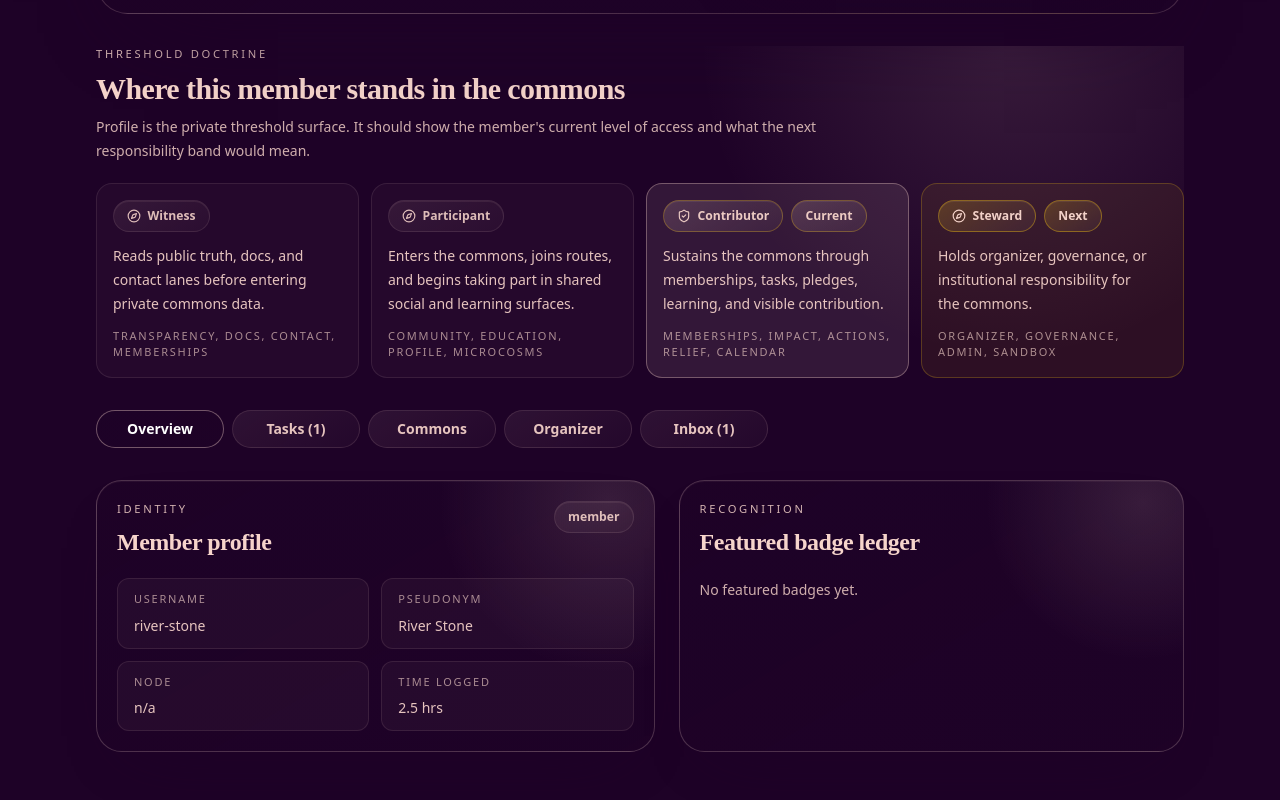
ProfilePage › renders the chambered cockpit and exposes task and organizer modules
(page scrolled)
Check: the heading "Where this member stands in the commons" is shown, box [96,72,625,105]
Click the button "Tasks (1)".
click(296, 429)  # box [232,410,360,448]
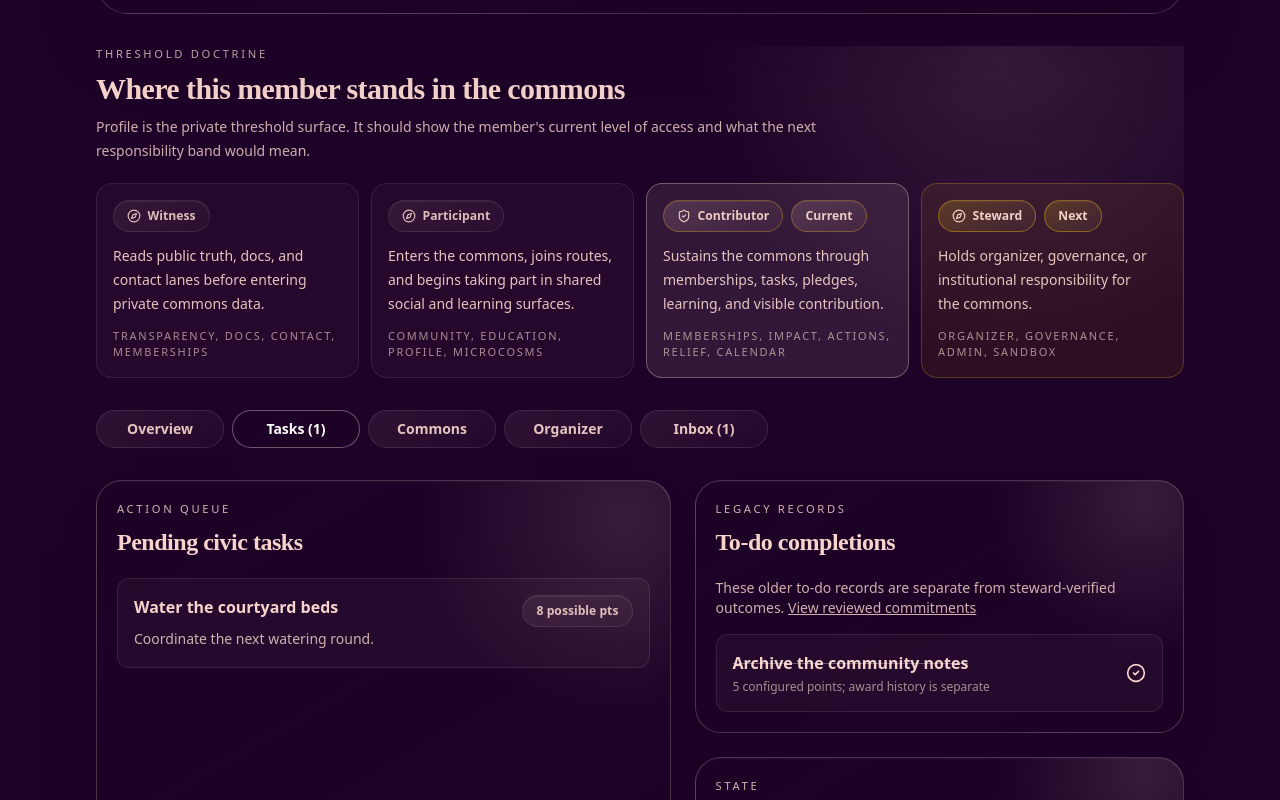
Check: the text "Water the courtyard beds" is shown, box [134,595,374,619]
Click the button "Organizer".
click(568, 429)  # box [504,410,632,448]
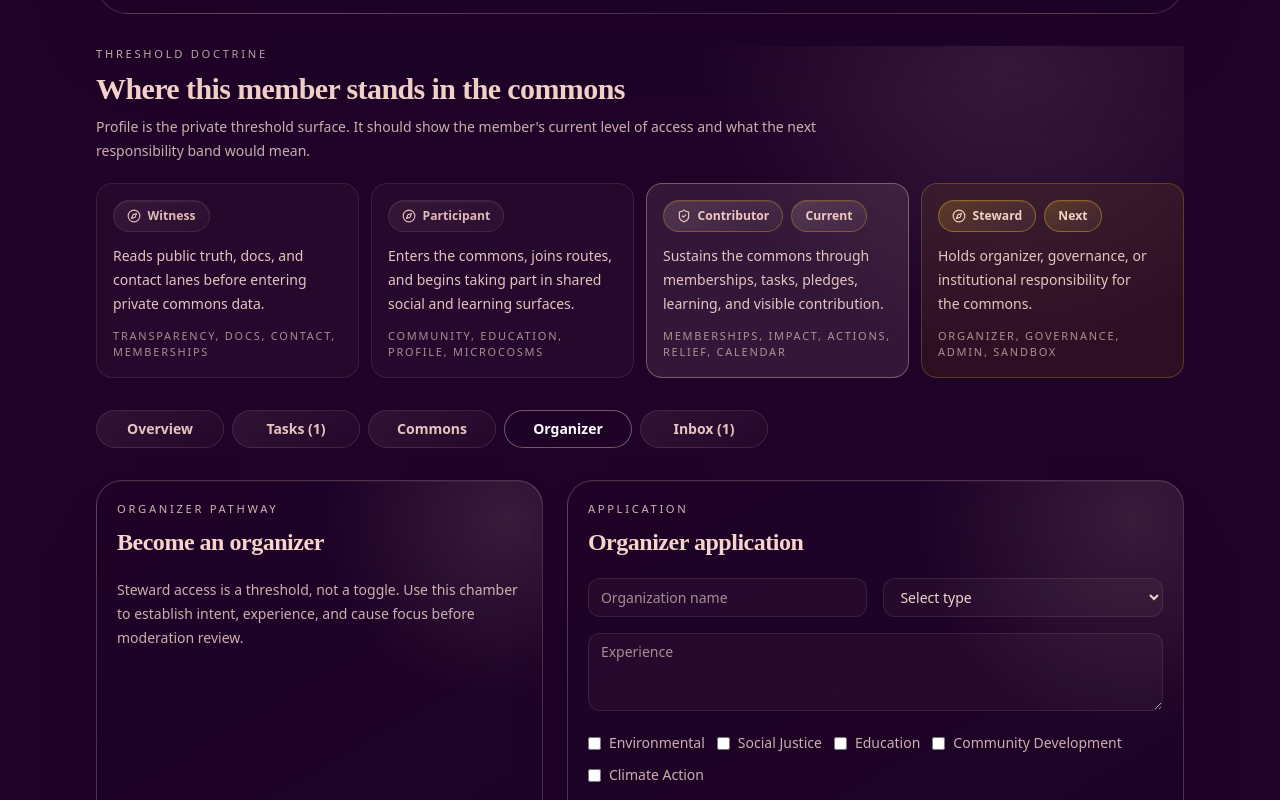
Check: the field with placeholder "Organization name" is shown, box [588,578,868,617]
